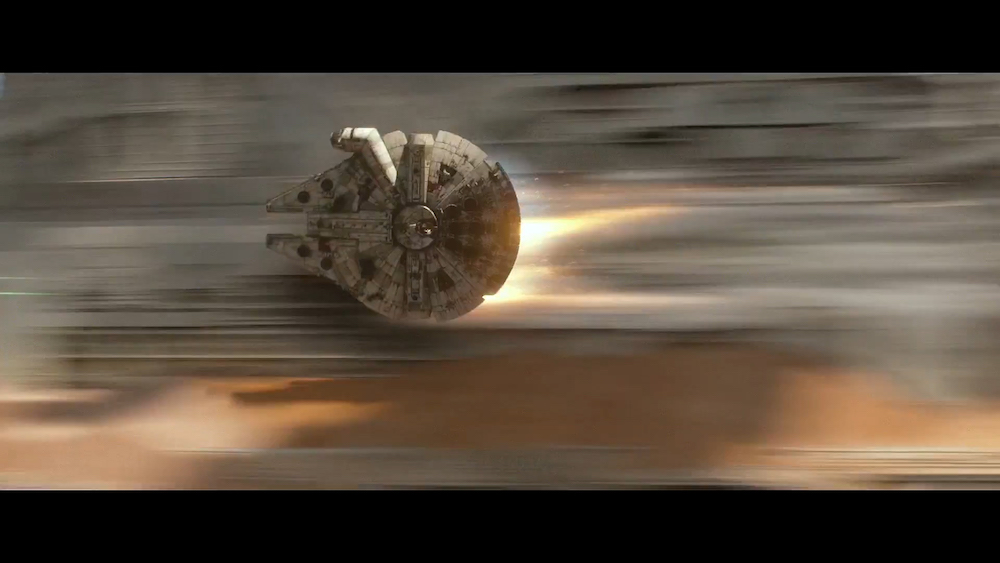Millennium Falcon: (265, 128, 520, 328)
